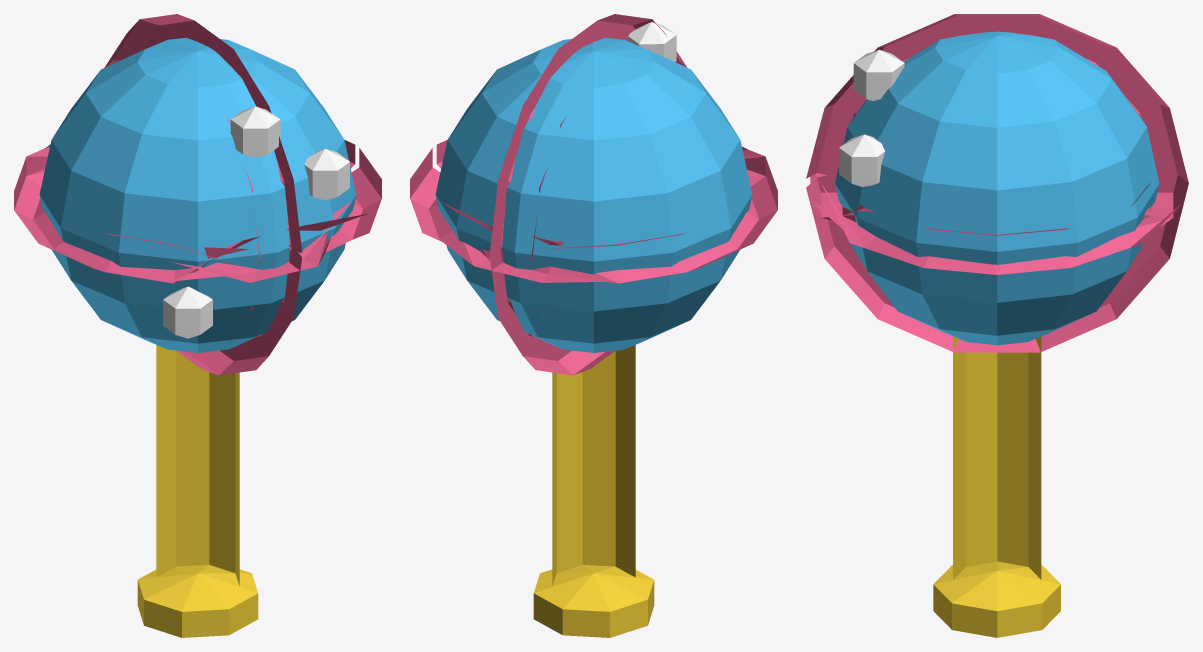
The model's file is skallra.glb.
3 views of the same model, side by side, from view 1: azimuth 30°, elevation 25°; view 2: azimuth 150°, elevation 25°; view 3: azimuth 270°, elevation 25° (orthographic). The views are drawn at different scales.
Visible parts, largest first — view 1: skallra; view 2: skallra; view 3: skallra.
Boxes of the visible parts, left/top/right/bottom form: skallra: left=14, top=14, right=381, bottom=637; skallra: left=410, top=14, right=777, bottom=637; skallra: left=806, top=14, right=1188, bottom=637.
Bounding box in the file's own units: 0.2557 × 0.4567 × 0.2596.
